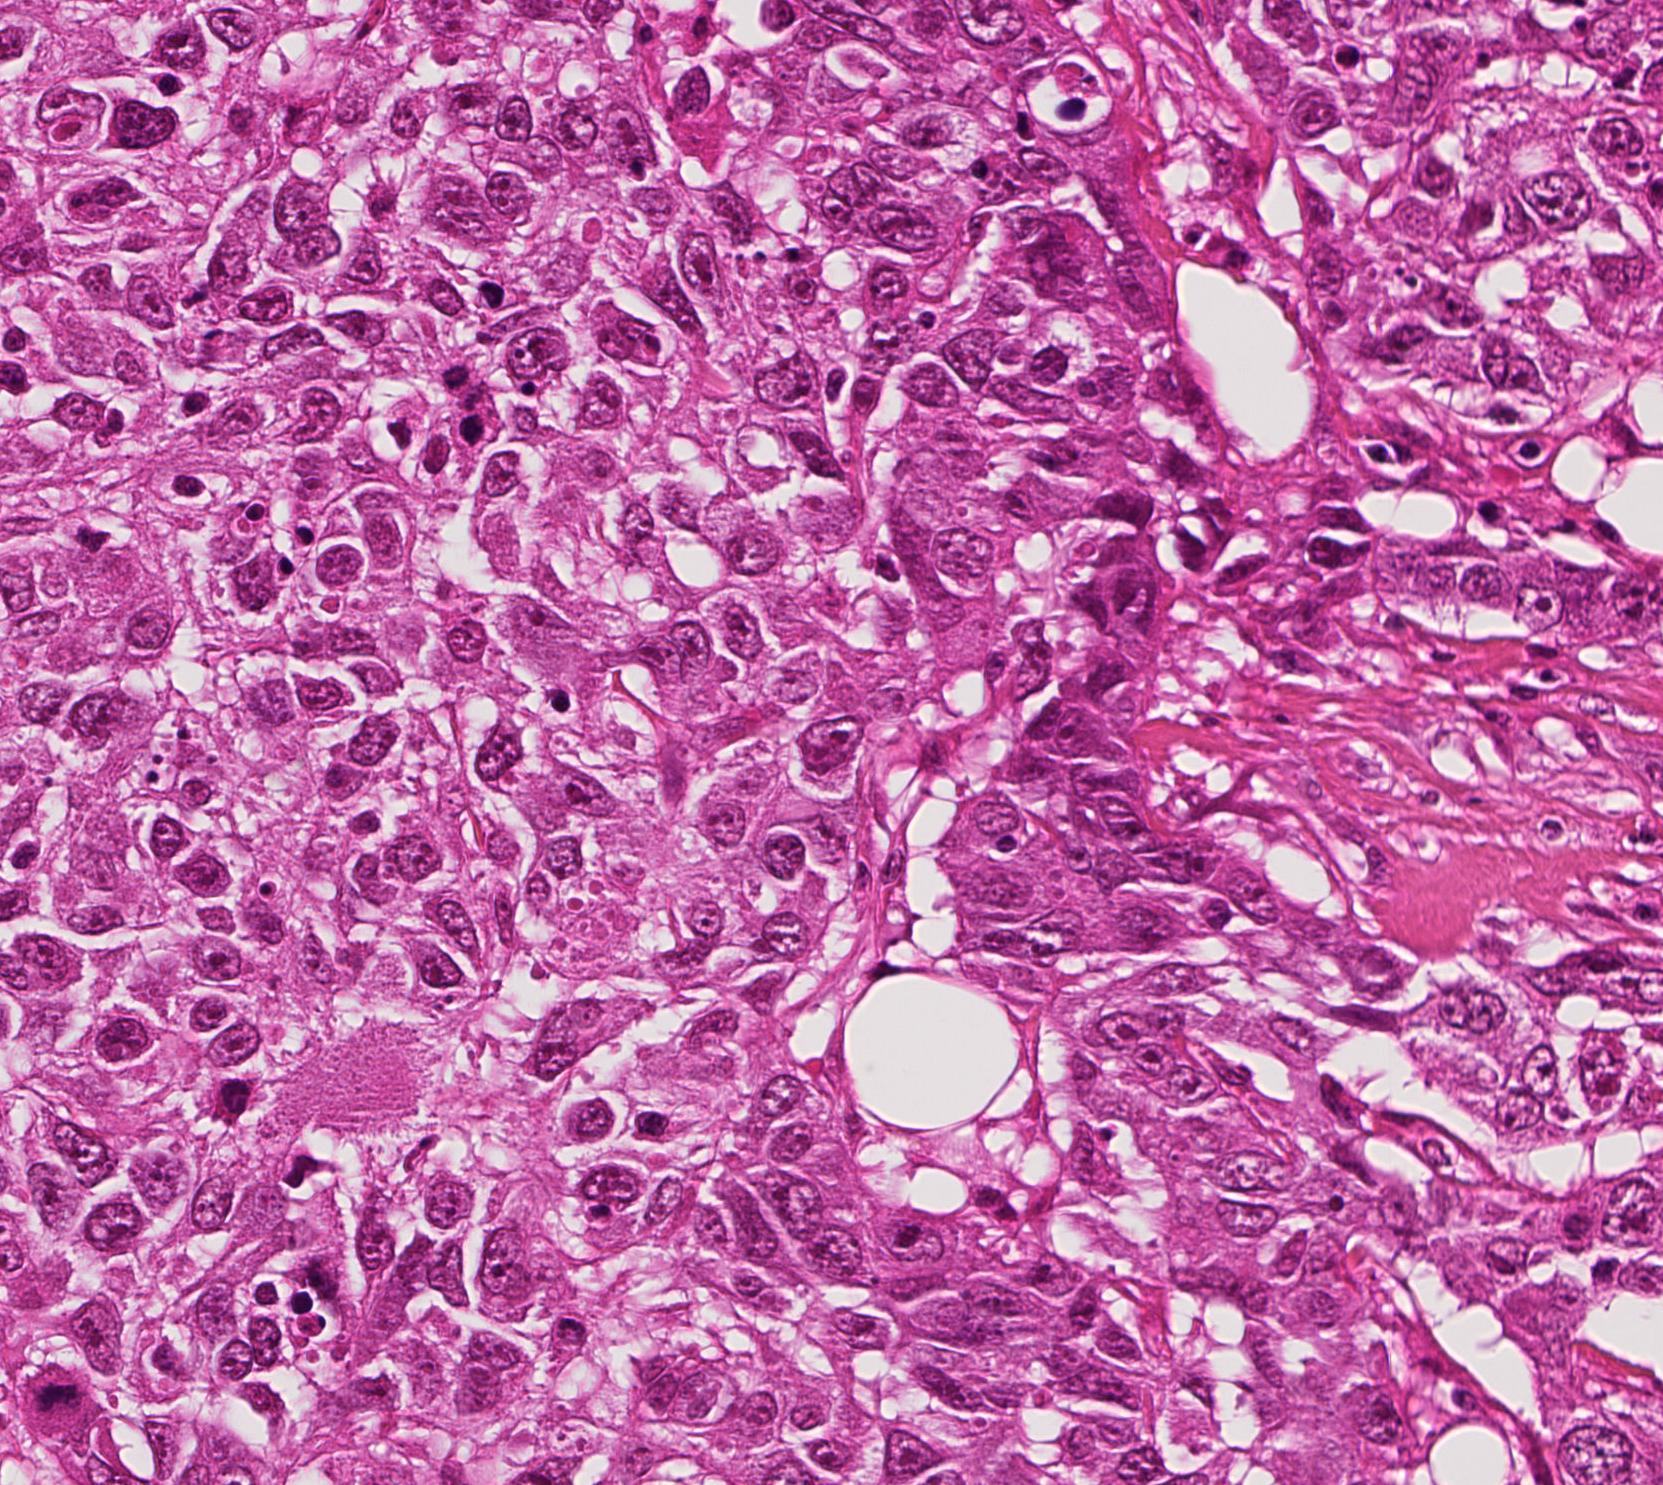mitosis: (32, 1360, 90, 1420)
